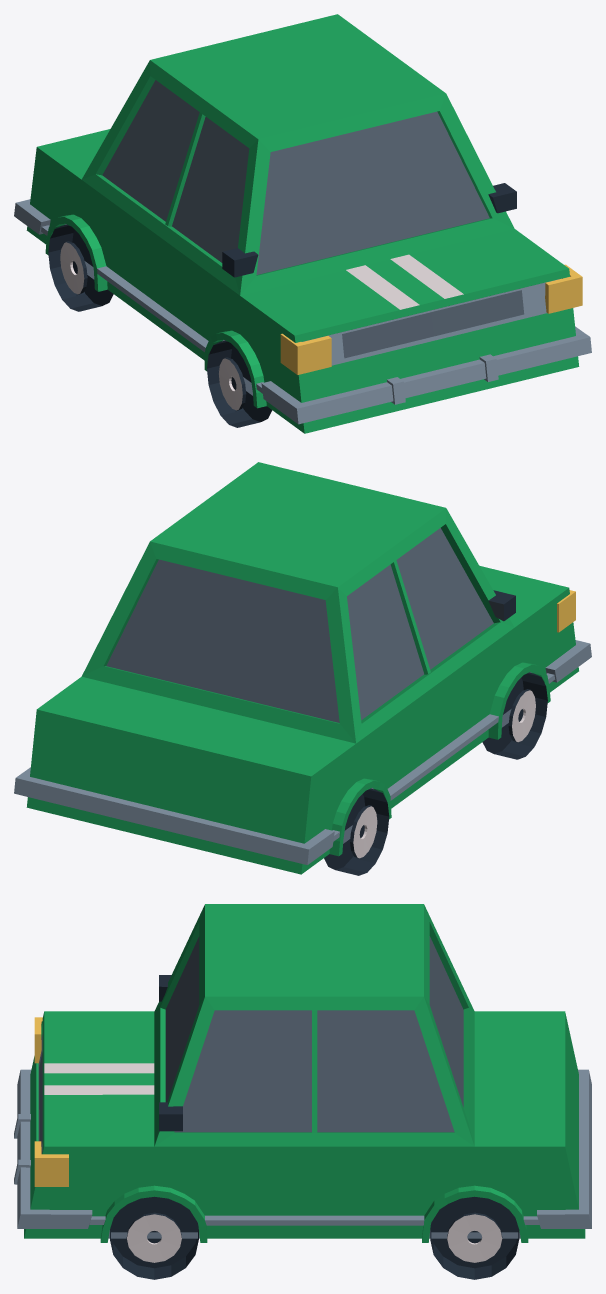
Rendered from car4.fbx.
3 views of the same model, one above another, from view 1: azimuth 30°, elevation 25°; view 2: azimuth 150°, elevation 25°; view 3: azimuth 270°, elevation 25° (orthographic).
Parts seen in each view (by area): view 1: purple.006; view 2: purple.006; view 3: purple.006.
Boxes of the visible parts, x1,y1,x2,y2 form: purple.006: (14, 14, 591, 433); purple.006: (14, 462, 591, 875); purple.006: (14, 904, 591, 1279).
Bounding box in the file's own units: 216 × 177 × 361.
